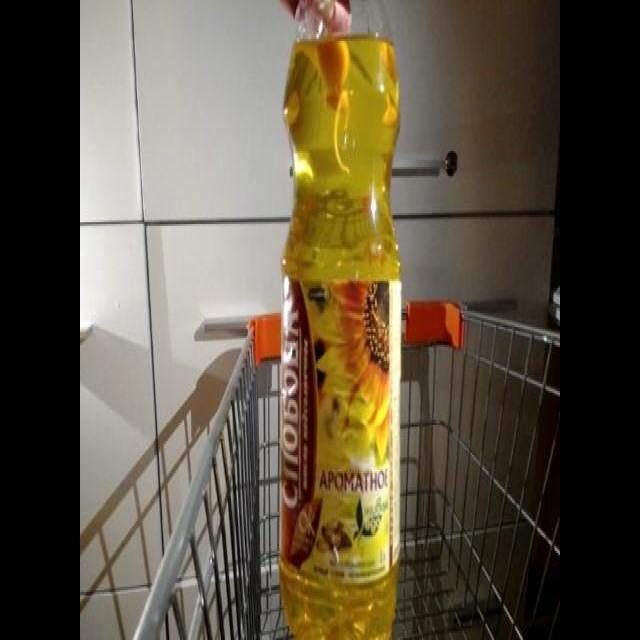Oil: (272, 3, 408, 639)
